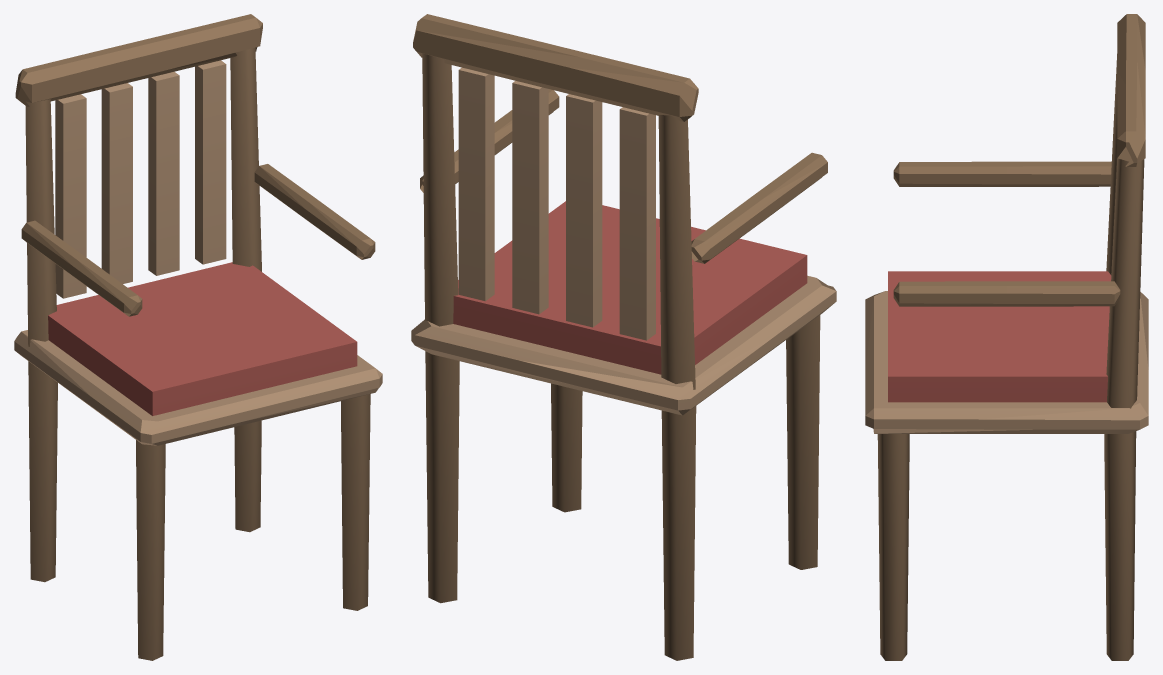
Rendered from kajuete_stuhl.glb.
3 renders of one model, left to right at view 1: azimuth 30°, elevation 25°; view 2: azimuth 150°, elevation 25°; view 3: azimuth 270°, elevation 25°, orthographic. The views are drawn at different scales.
Parts seen in each view (by area): view 1: G_kajuete_stuhl; view 2: G_kajuete_stuhl; view 3: G_kajuete_stuhl.
Boxes of the visible parts, box(x1,y1,x2,y2) form: G_kajuete_stuhl: box(14, 14, 382, 660); G_kajuete_stuhl: box(411, 14, 836, 660); G_kajuete_stuhl: box(865, 14, 1148, 660).
Size of the model in its own units: 0.54 by 1.03 by 0.5.
